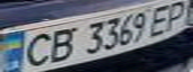3: (78, 18, 106, 55), (103, 15, 124, 51)
6: (118, 11, 139, 47)
9: (127, 9, 154, 44)
B: (39, 26, 78, 64)
C: (12, 29, 60, 70)
E: (145, 1, 178, 38)
P: (157, 0, 193, 33)
